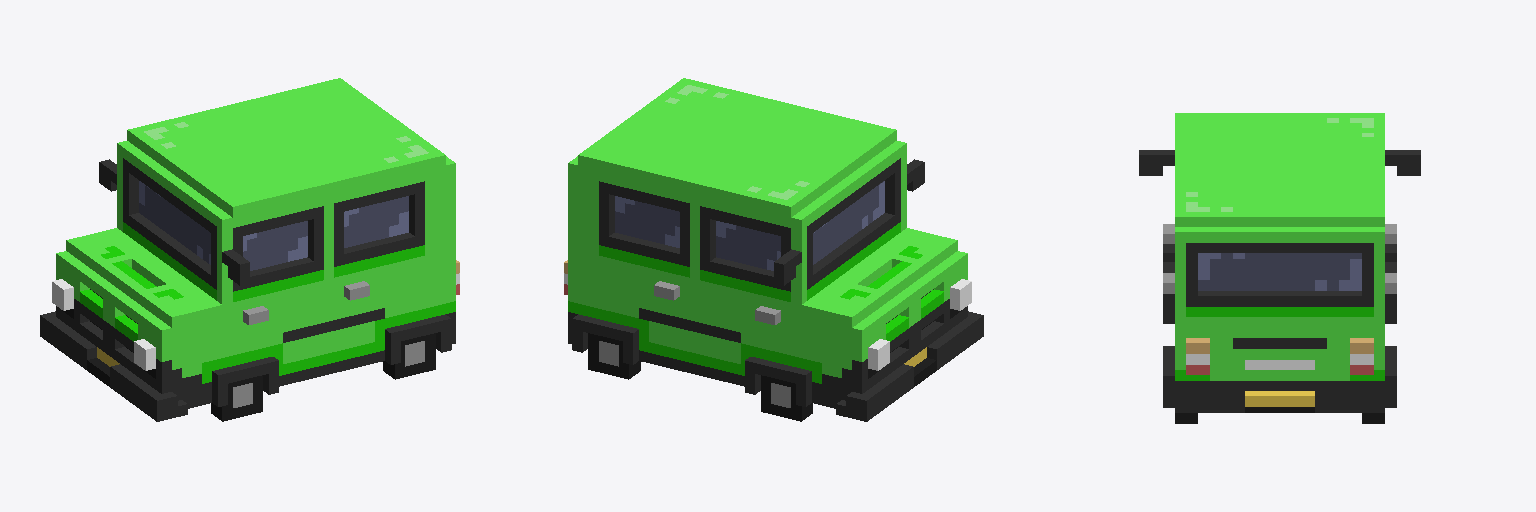
3 renders of one model, left to right at view 1: azimuth 30°, elevation 25°; view 2: azimuth 150°, elevation 25°; view 3: azimuth 270°, elevation 25°, orthographic.
Visible parts, largest first — view 1: Box_92; view 2: Box_92; view 3: Box_92.
Part boxes in pixels (x1,y1,x2,y2): Box_92: (40,78,459,421); Box_92: (564,78,983,421); Box_92: (1139,113,1420,423).
Size of the model in its own units: 31 by 20 by 24.
Materials: 1 (1 with a texture image).